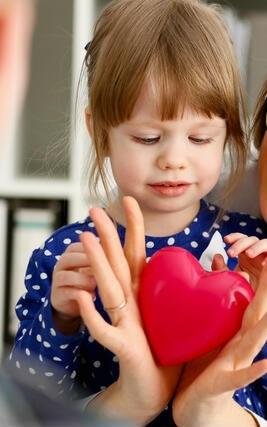Healthy: (85, 0, 260, 225)
